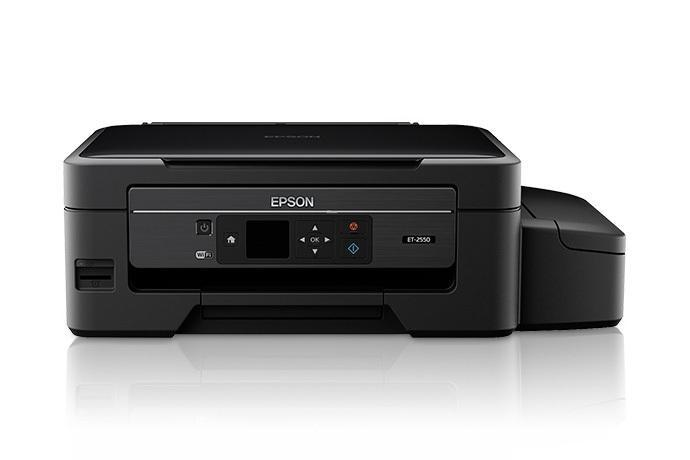Printer: (64, 121, 625, 338)
